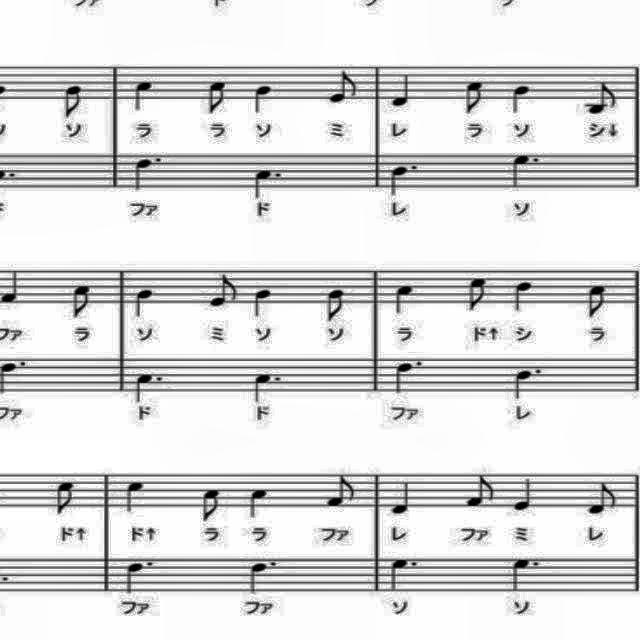Eighth-note: (582, 78, 620, 122), (462, 468, 498, 514), (322, 470, 360, 512), (49, 474, 83, 518), (204, 272, 240, 312), (57, 78, 91, 120), (458, 74, 489, 120), (198, 482, 230, 526), (586, 478, 620, 518), (200, 75, 232, 117), (66, 280, 96, 324), (464, 271, 492, 317), (328, 70, 360, 110), (584, 283, 614, 325), (322, 285, 346, 327)
Quarter-dot: (394, 354, 431, 402), (386, 552, 422, 600), (121, 554, 159, 598), (246, 552, 282, 598), (508, 554, 544, 598), (130, 152, 168, 192), (509, 148, 543, 192), (130, 370, 170, 406), (246, 368, 282, 407), (509, 362, 543, 403), (252, 161, 284, 201), (387, 160, 419, 196)
Quarter-note: (120, 75, 160, 117), (386, 478, 414, 522), (386, 68, 414, 110), (240, 484, 272, 520), (506, 80, 536, 118), (507, 278, 537, 316), (247, 286, 277, 320), (1, 266, 23, 310), (120, 478, 144, 518), (512, 476, 536, 516), (249, 82, 275, 118), (388, 282, 414, 316), (132, 284, 156, 320)
